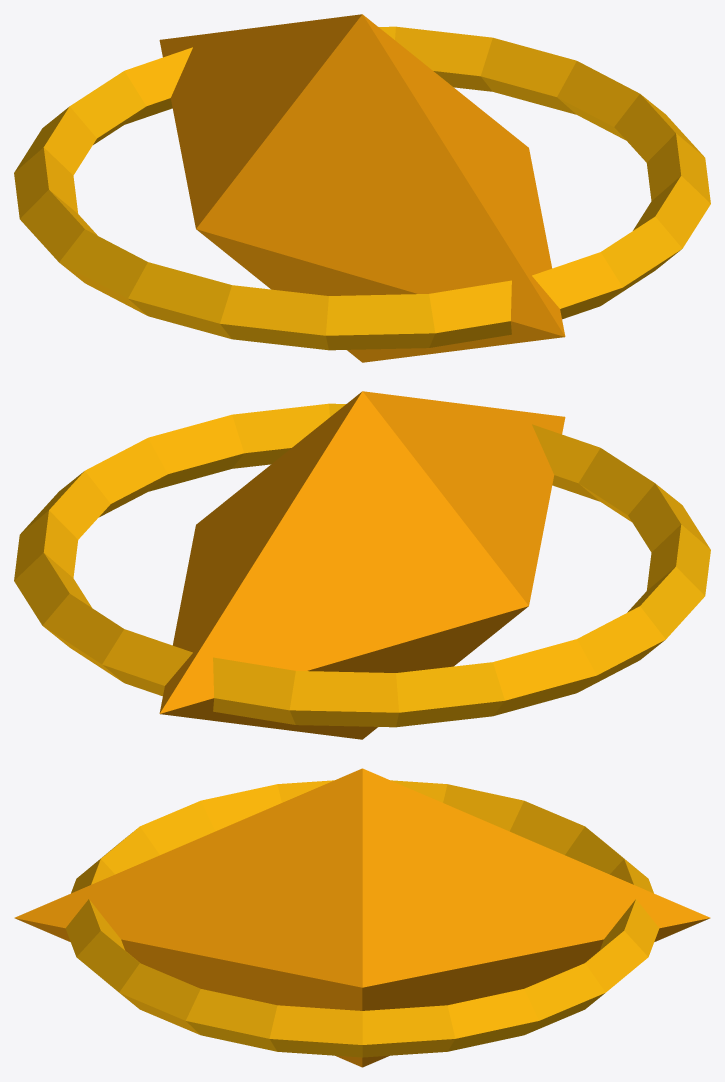
File: pickup_cannon.glb
The picture shows the model from 3 angles, top to bottom: view 1: azimuth 30°, elevation 25°; view 2: azimuth 150°, elevation 25°; view 3: azimuth 270°, elevation 25°; orthographic projection. The views are drawn at different scales.
Parts seen in each view (by area): view 1: pickup_cannon; view 2: pickup_cannon; view 3: pickup_cannon.
Boxes of the visible parts, left/top/right/bottom form: pickup_cannon: left=14, top=14, right=710, bottom=362; pickup_cannon: left=14, top=391, right=710, bottom=739; pickup_cannon: left=14, top=768, right=710, bottom=1067.
Bounding box in the file's own units: 1.64 × 0.9 × 1.9.
